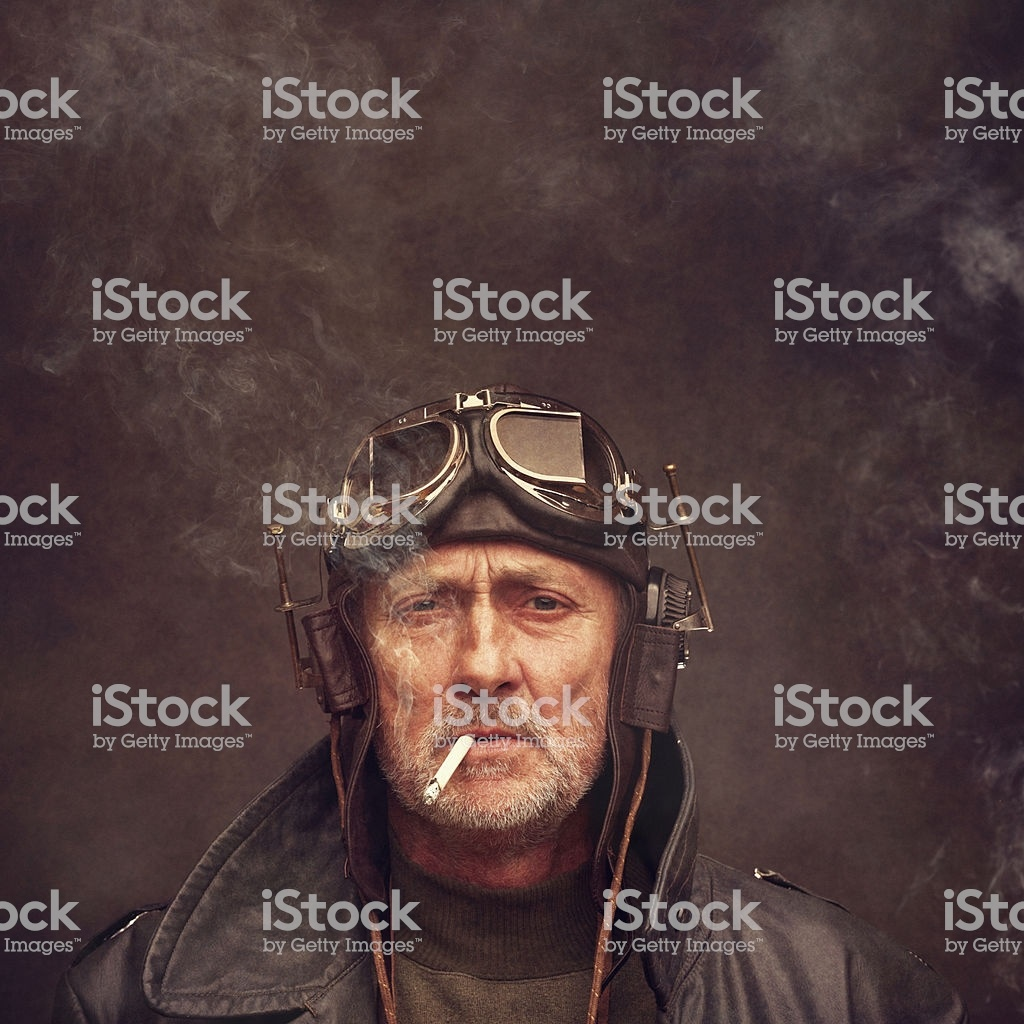sigaretta: (422, 716, 486, 808)
